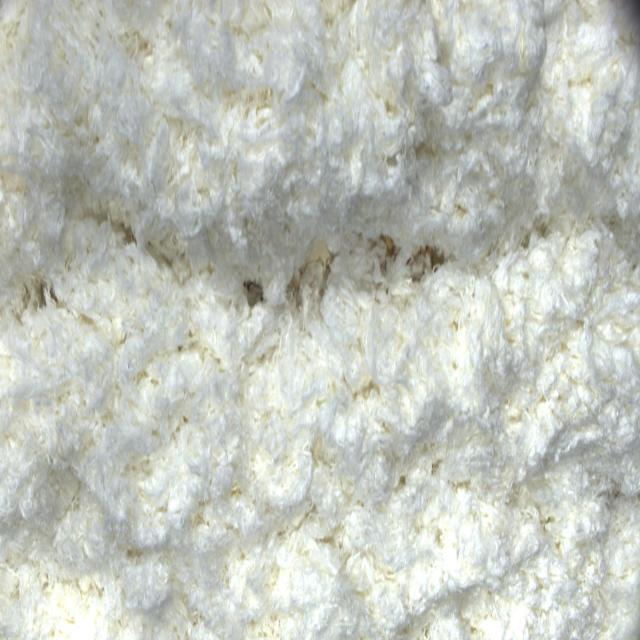dust: (406, 244, 444, 277), (244, 279, 273, 318), (304, 238, 333, 265), (377, 231, 398, 258)
